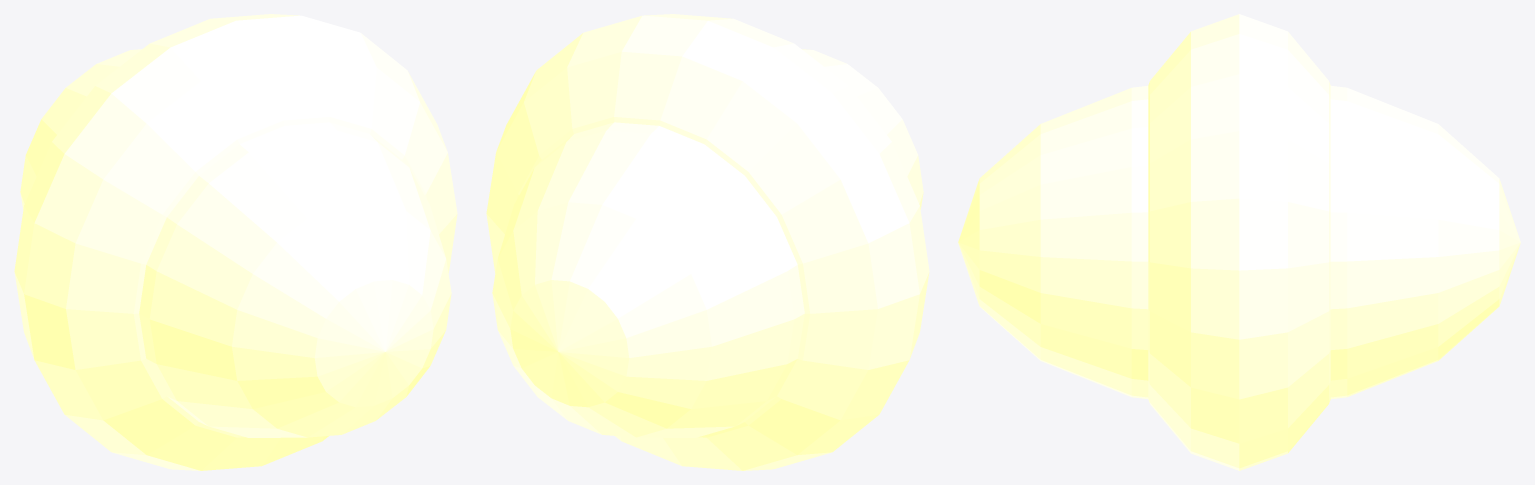
File: Glimmer.glb
The picture shows the model from 3 angles, left to right: view 1: azimuth 30°, elevation 25°; view 2: azimuth 150°, elevation 25°; view 3: azimuth 270°, elevation 25°; orthographic projection. The views are drawn at different scales.
Visible parts, largest first — view 1: Glimmer_d2, Glimmer_d1; view 2: Glimmer_d2, Glimmer_d1; view 3: Glimmer_d1, Glimmer_d2.
Boxes of the visible parts, left/top/right/bottom form: Glimmer_d2: left=14, top=14, right=457, bottom=470; Glimmer_d1: left=20, top=49, right=451, bottom=437; Glimmer_d2: left=486, top=14, right=929, bottom=470; Glimmer_d1: left=492, top=49, right=923, bottom=437; Glimmer_d1: left=958, top=85, right=1520, bottom=399; Glimmer_d2: left=1148, top=14, right=1330, bottom=470.
Bounding box in the file's own units: 0.18 × 0.18 × 0.22.
